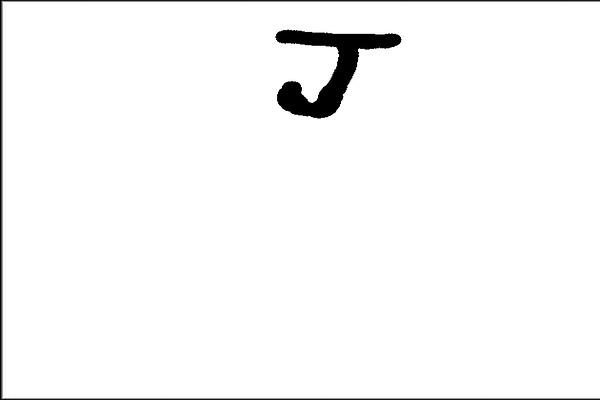J: (268, 21, 405, 121)
